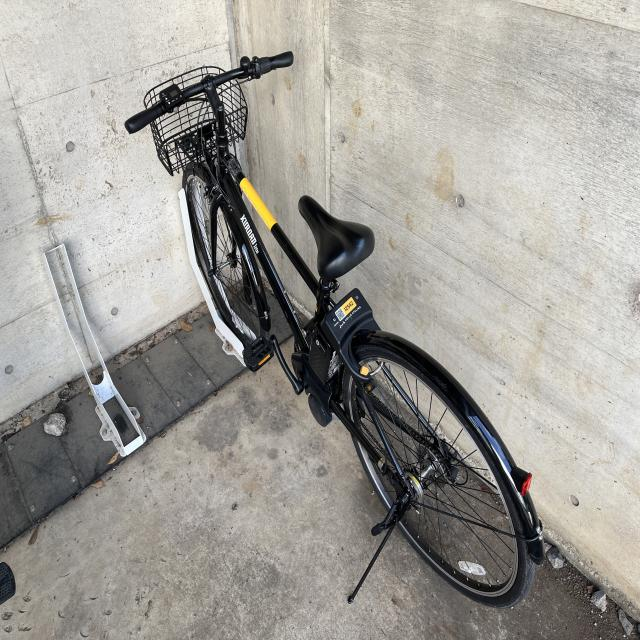basket: (142, 64, 247, 178)
battery: (308, 327, 340, 390)
